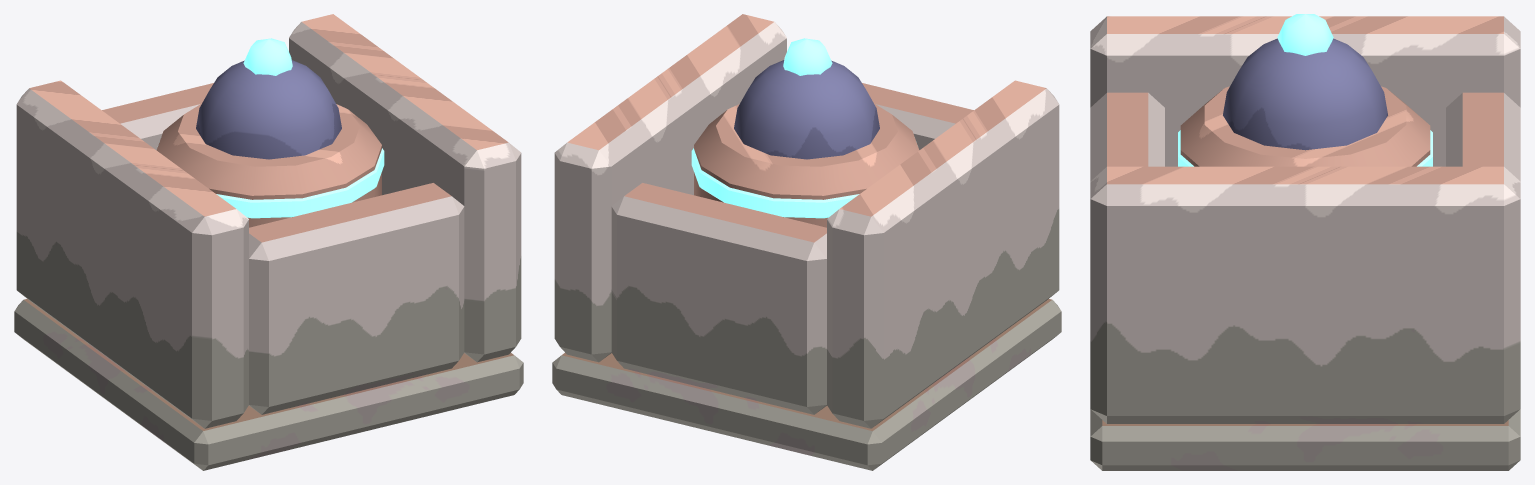
The model's file is R4X_DeployableShieldGenerator_LOD1.glb.
The picture shows the model from 3 angles, left to right: view 1: azimuth 30°, elevation 25°; view 2: azimuth 150°, elevation 25°; view 3: azimuth 270°, elevation 25°; orthographic projection. The views are drawn at different scales.
Visible parts, largest first — view 1: R4X_DeployableShieldGenerator_LOD1; view 2: R4X_DeployableShieldGenerator_LOD1; view 3: R4X_DeployableShieldGenerator_LOD1.
Part boxes in pixels (box(x1,y1,x2,y2)): R4X_DeployableShieldGenerator_LOD1: box(14, 14, 523, 470); R4X_DeployableShieldGenerator_LOD1: box(552, 14, 1061, 470); R4X_DeployableShieldGenerator_LOD1: box(1090, 14, 1520, 470).
Size of the model in its own units: 0.52 by 0.495 by 0.52.
4 materials, 3 textured.
